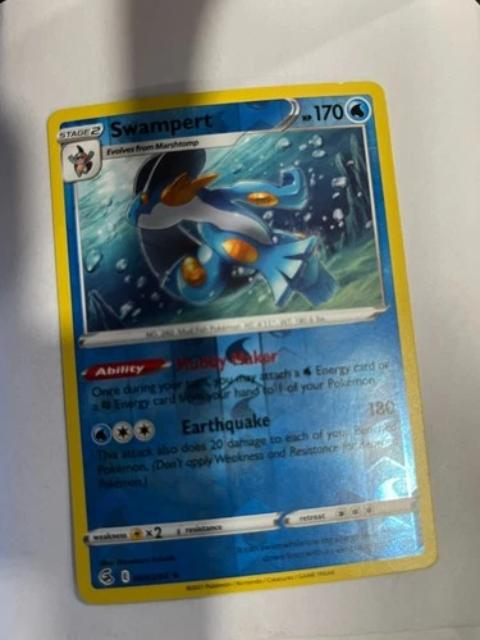Card: (44, 73, 449, 609)
Name: (105, 105, 216, 142)
